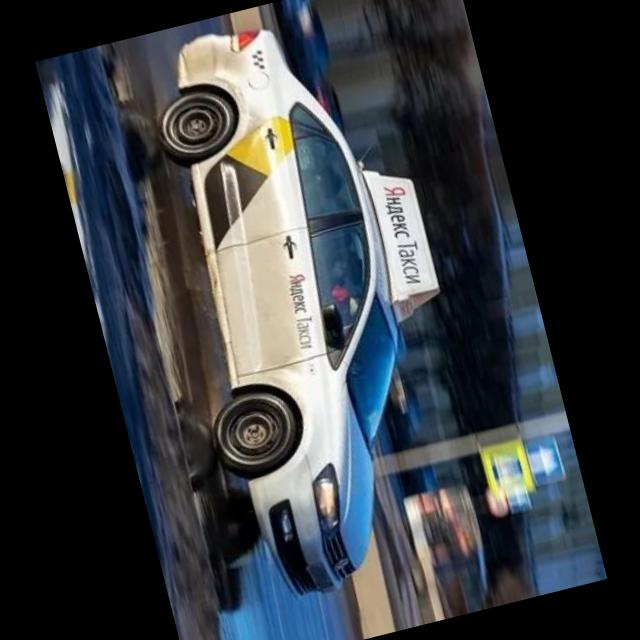taxi: (116, 1, 507, 612)
